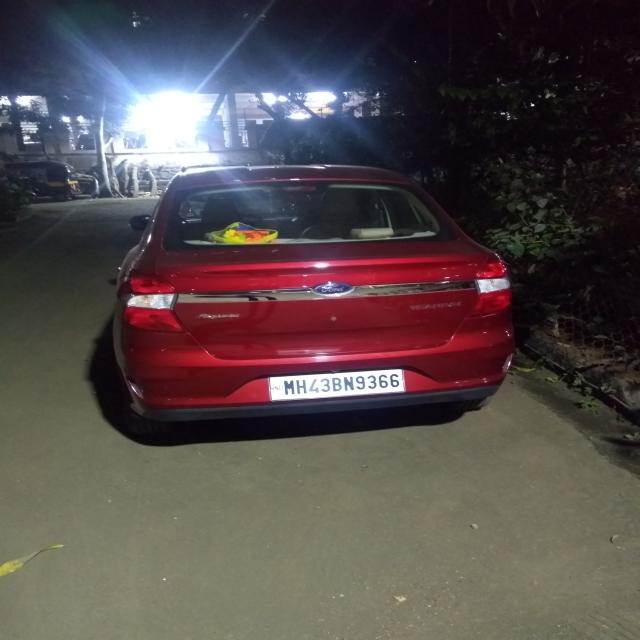Number-Plate: (277, 371, 403, 398)
